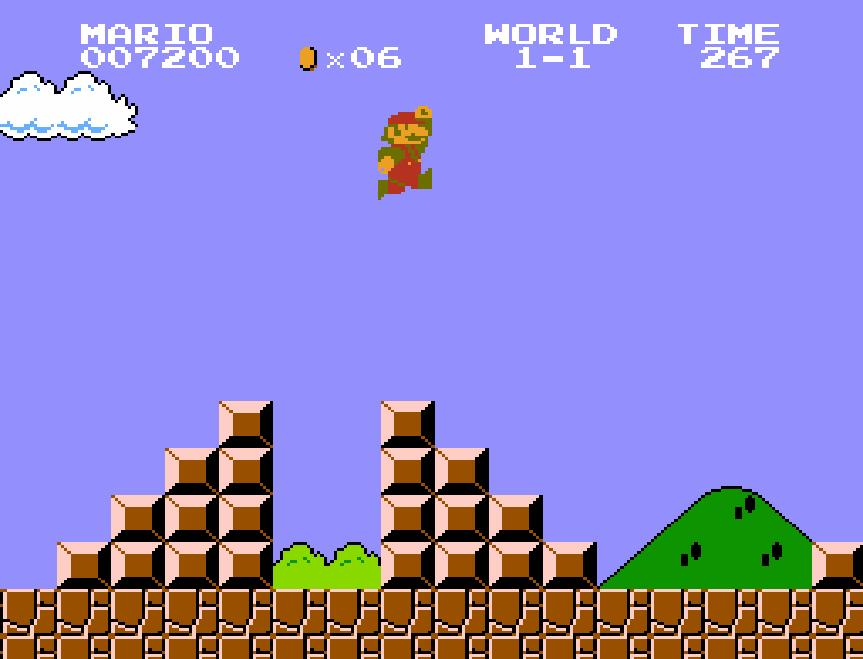big_mario: (376, 103, 434, 201)
